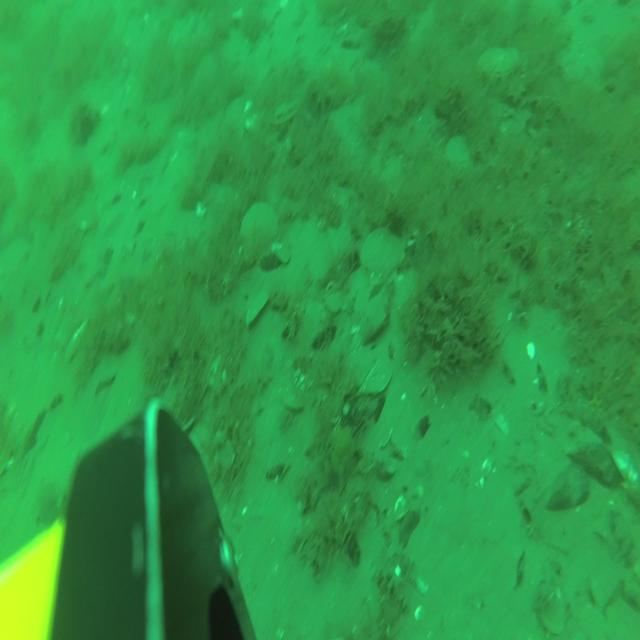scallop: (359, 222, 406, 291), (237, 201, 280, 261), (476, 43, 522, 82), (444, 132, 479, 176), (273, 90, 305, 126)
